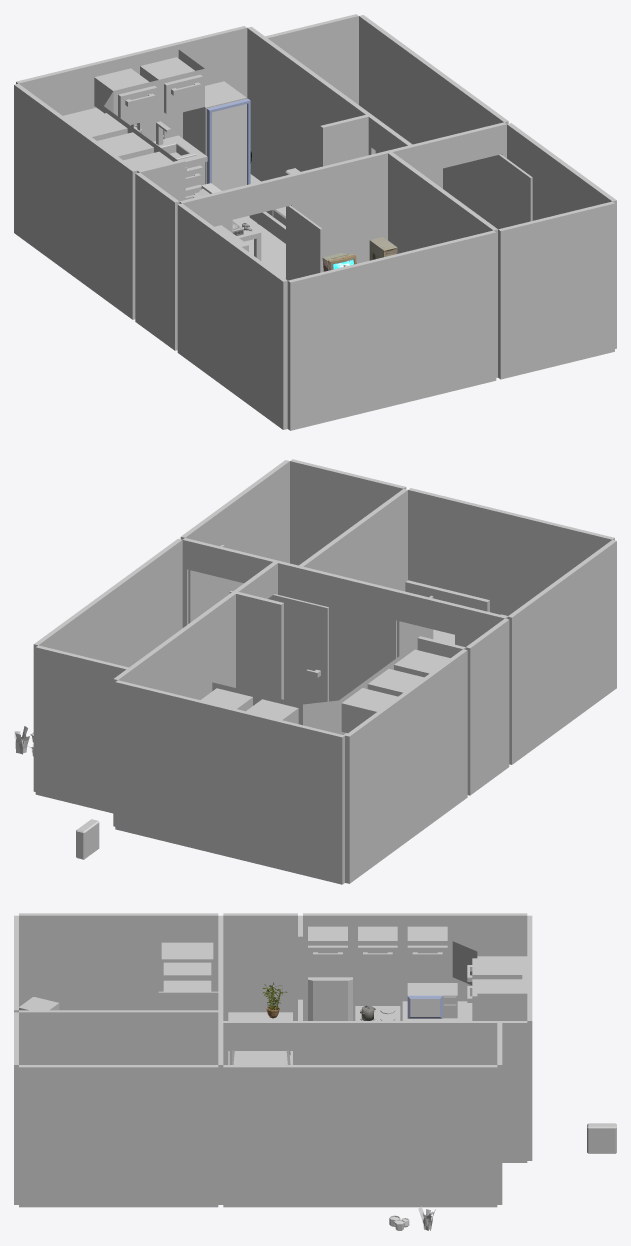
File: hub.fbx
3 renders of one model, top to bottom at view 1: azimuth 30°, elevation 25°; view 2: azimuth 150°, elevation 25°; view 3: azimuth 270°, elevation 25°, orthographic. The views are drawn at different scales.
Parts seen in each view (by area): view 1: Cube.011, Cube.159, Cube.012, Cube.010, Cube.014, Cube.171, Cube.147, Cube.006, Cube.003, Cube.009, counter-hang, Cube.013 (+16 smaller); view 2: Cube.147, Cube.159, Cube.010, Cube.011, Cube.015, Cube.014, Cube.006, Cube.171, Cube.012, Cube.003, counter-hang, Cube.013 (+14 smaller); view 3: Cube.014, Cube.013, Cube.010, Cube.171, Cube.009, Cube.159, counter-hang, Cube.003, drawer-1, Cube.016, door-frame-1.002, Cube.147 (+16 smaller).
Part boxes in pixels (box(x1,y1,x2,y2)): Cube.011: box(287, 230, 496, 430); Cube.159: box(14, 83, 137, 319); Cube.012: box(498, 201, 614, 379); Cube.010: box(177, 203, 287, 429); Cube.014: box(359, 15, 508, 227); Cube.171: box(247, 26, 369, 181); Cube.147: box(16, 26, 247, 141); Cube.006: box(294, 151, 387, 271); Cube.003: box(135, 172, 179, 350); Cube.009: box(388, 152, 497, 377); counter-hang: box(63, 50, 204, 170); Cube.013: box(507, 123, 616, 348); Cube.147: box(115, 680, 344, 884); Cube.159: box(345, 649, 467, 883); Cube.010: box(507, 540, 616, 764); Cube.011: box(408, 488, 614, 615); Cube.015: box(35, 645, 128, 813); Cube.014: box(33, 538, 182, 791); Cube.006: box(300, 566, 393, 701); Cube.171: box(113, 592, 235, 826); Cube.012: box(290, 459, 406, 565); Cube.003: box(465, 618, 509, 795); counter-hang: box(191, 643, 447, 735); Cube.013: box(180, 460, 289, 596); Cube.014: box(223, 1065, 497, 1207); Cube.013: box(19, 1065, 218, 1207); Cube.010: box(19, 913, 218, 1010); Cube.171: box(303, 1021, 527, 1162); Cube.009: box(19, 1010, 218, 1064); Cube.159: box(303, 913, 527, 1020); counter-hang: box(303, 926, 527, 1020); Cube.003: box(223, 913, 297, 1050); drawer-1: box(308, 926, 447, 974); Cube.016: box(161, 942, 213, 991); door-frame-1.002: box(223, 1021, 297, 1064); Cube.147: box(527, 915, 532, 1160).
Bounding box in the file's own units: 855 × 312 × 1210.
